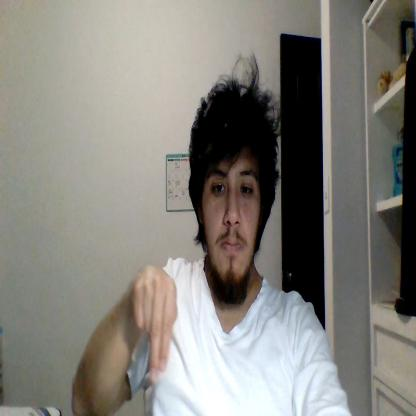N: (134, 264, 178, 383)
